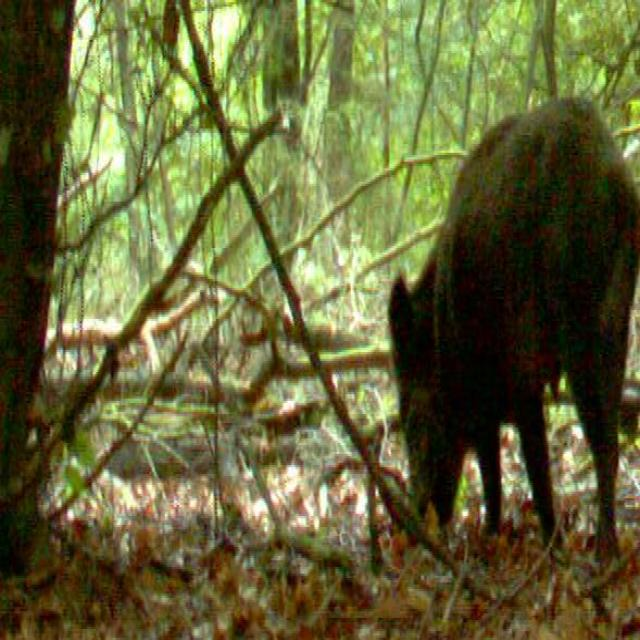pig: (371, 101, 636, 540)
